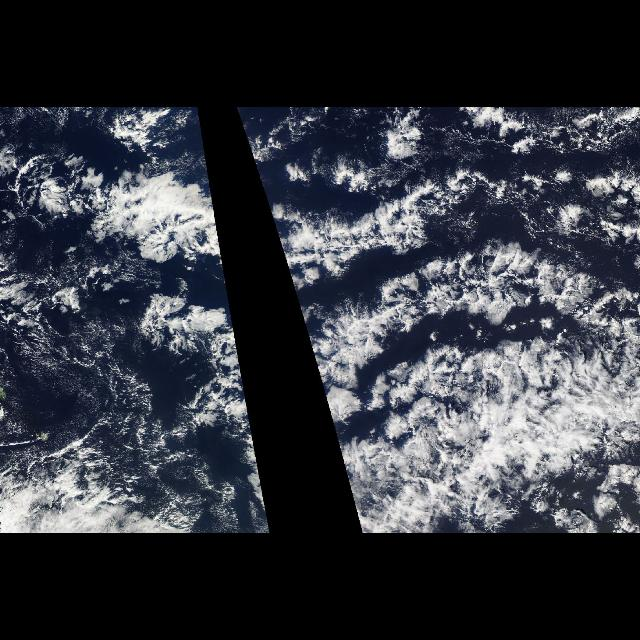Fish: (251, 159, 639, 395), (31, 159, 246, 395)
Sugar: (2, 316, 218, 504)
